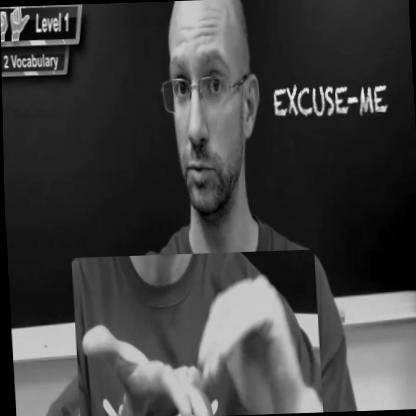ExcuseMe: (69, 249, 321, 416)
